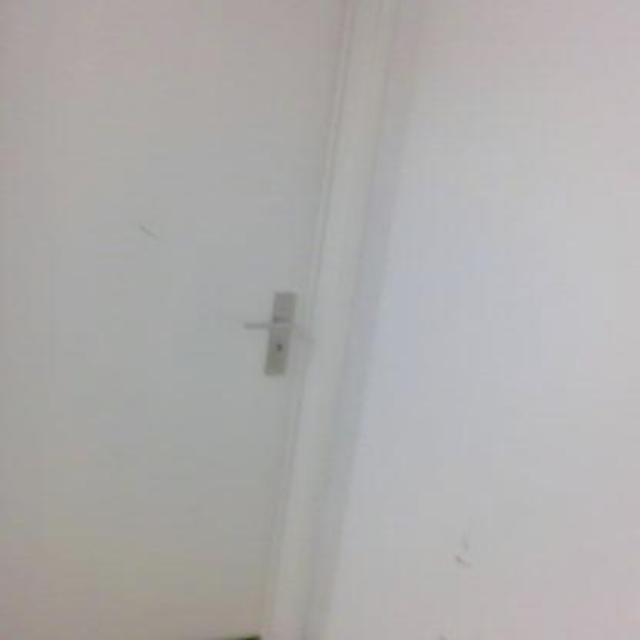door: (0, 0, 402, 638)
